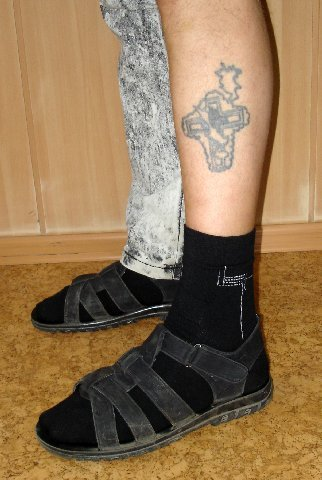tatu9_krest: (181, 91, 260, 175)
